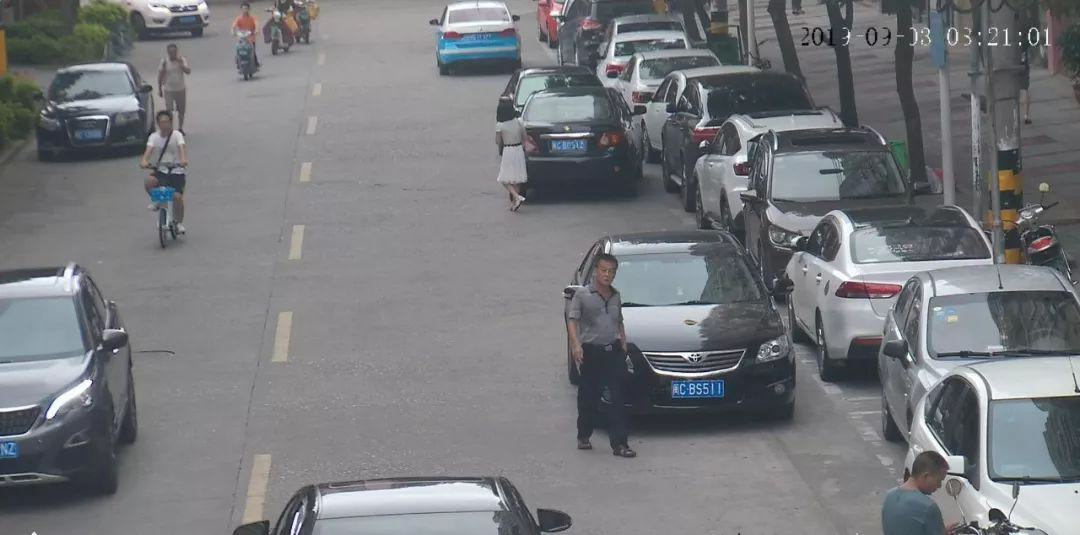car: (565, 213, 821, 436), (878, 258, 1078, 533), (784, 209, 998, 382), (3, 258, 150, 498), (673, 89, 888, 219), (645, 67, 802, 202), (498, 68, 647, 206), (23, 50, 149, 168), (606, 62, 710, 200), (583, 28, 734, 107), (427, 5, 534, 74)
motorbike: (222, 1, 260, 61), (264, 1, 299, 57)
person: (544, 248, 651, 440), (851, 419, 962, 535), (131, 115, 207, 250), (485, 102, 538, 205), (146, 46, 195, 127)
